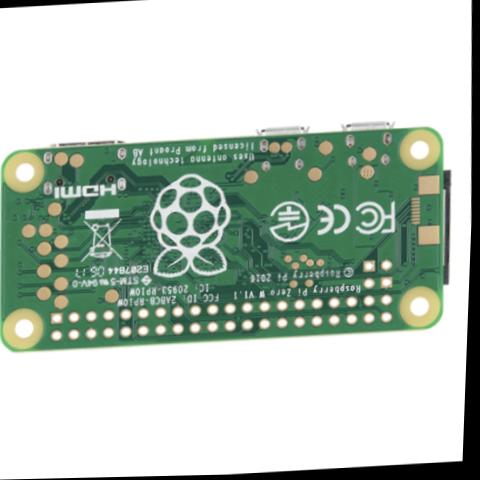Raspberry-Pi-Zero-W: (0, 118, 460, 355)
